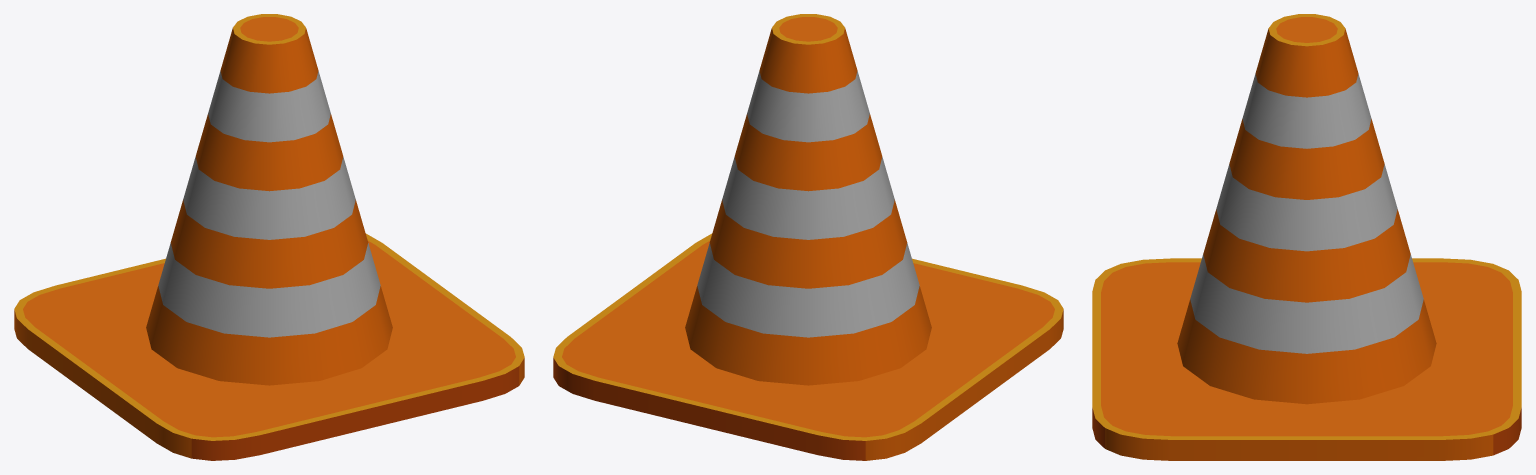
File: Conos.FBX
3 views of the same model, side by side, from view 1: azimuth 30°, elevation 25°; view 2: azimuth 150°, elevation 25°; view 3: azimuth 270°, elevation 25° (orthographic). The views are drawn at different scales.
Parts seen in each view (by area): view 1: Cone001; view 2: Cone001; view 3: Cone001.
Part boxes in pixels (x1,y1,x2,y2): Cone001: (14,14,524,460); Cone001: (553,14,1063,460); Cone001: (1092,14,1521,460).
Bounding box in the file's own units: 119 × 119 × 104.
